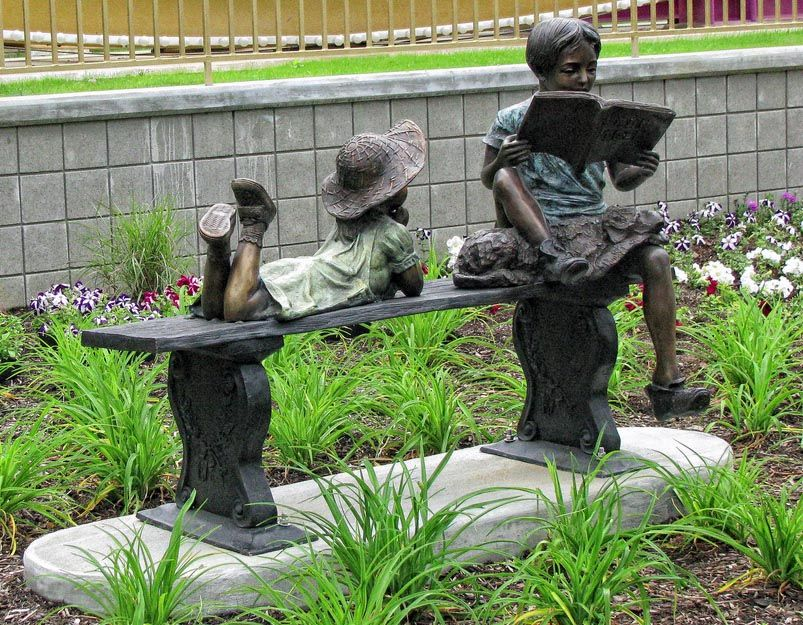person-like: (476, 13, 722, 422), (195, 115, 433, 329)
